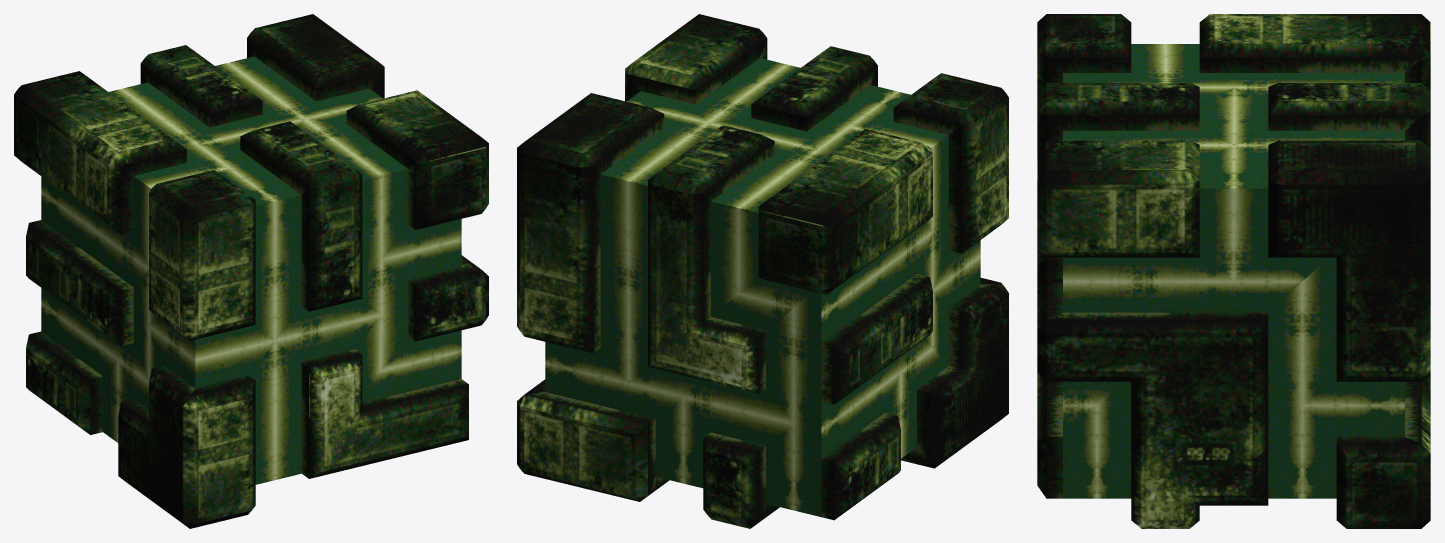
Rendered from item_weapon_01.fbx.
3 renders of one model, left to right at view 1: azimuth 30°, elevation 25°; view 2: azimuth 150°, elevation 25°; view 3: azimuth 270°, elevation 25°, orthographic. The views are drawn at different scales.
Visible parts, largest first — view 1: Artifact01; view 2: Artifact01; view 3: Artifact01.
Boxes of the visible parts, x1=… form: Artifact01: x1=14, y1=14, x2=488, y2=528; Artifact01: x1=517, y1=14, x2=1008, y2=528; Artifact01: x1=1037, y1=14, x2=1430, y2=528.
Bounding box in the file's own units: 104 × 104 × 104.
